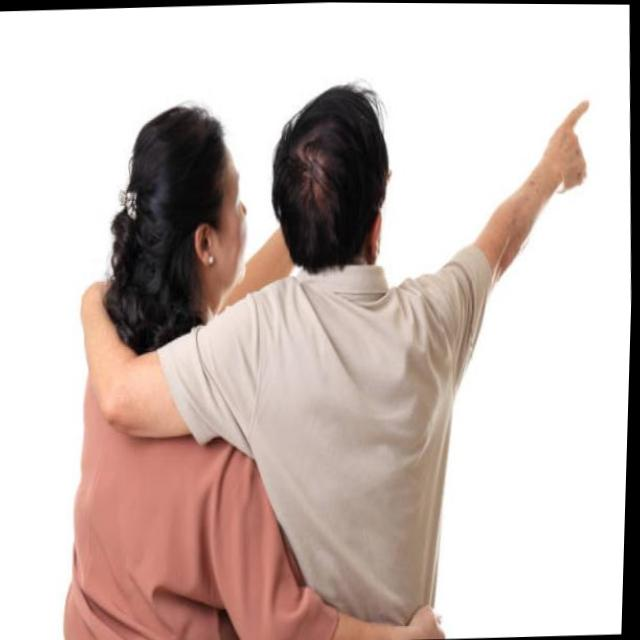no helmet: (265, 93, 401, 269), (110, 111, 207, 335)
